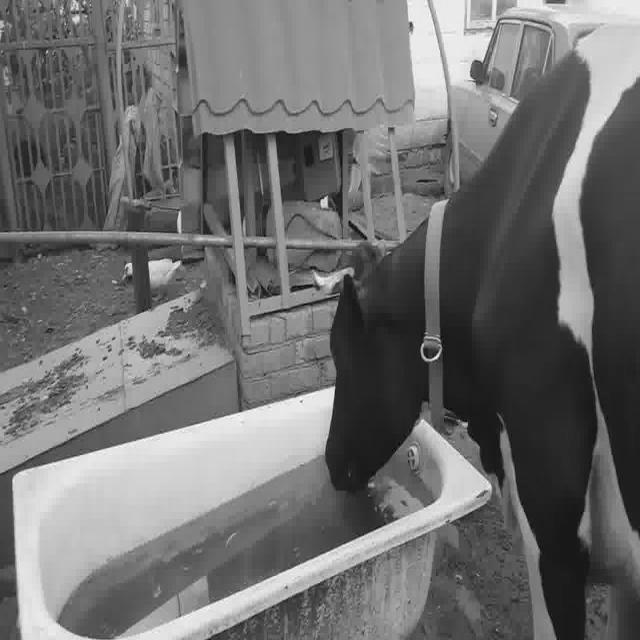cow: (326, 25, 640, 640)
